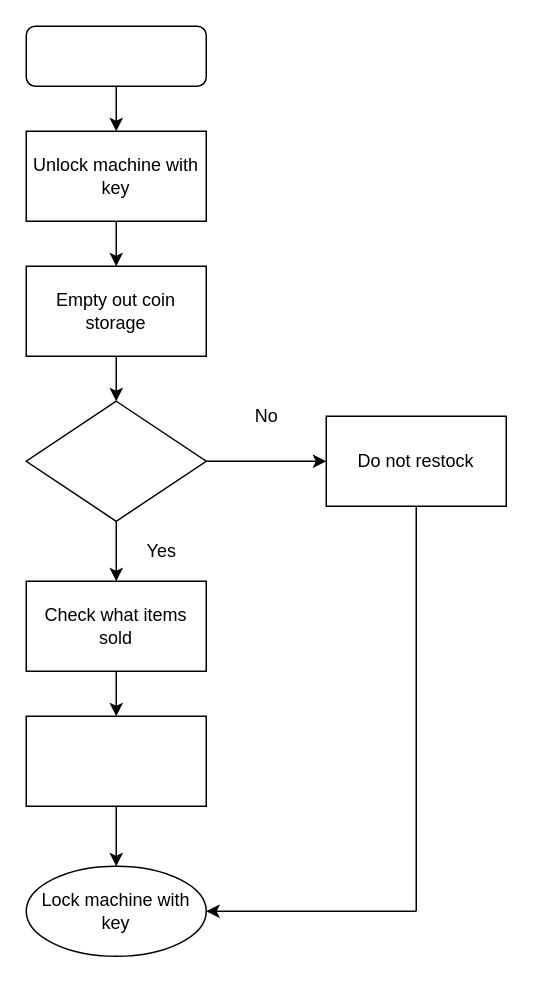
The diagram is 533 pixels wide and 983 high, and some of its shapes have lost their labels. Each missing label, with the box of its shape:
Checking the machine: (25, 25, 206, 86)
Restock product: (25, 715, 206, 806)
Were there coins in machine?: (25, 400, 206, 521)
